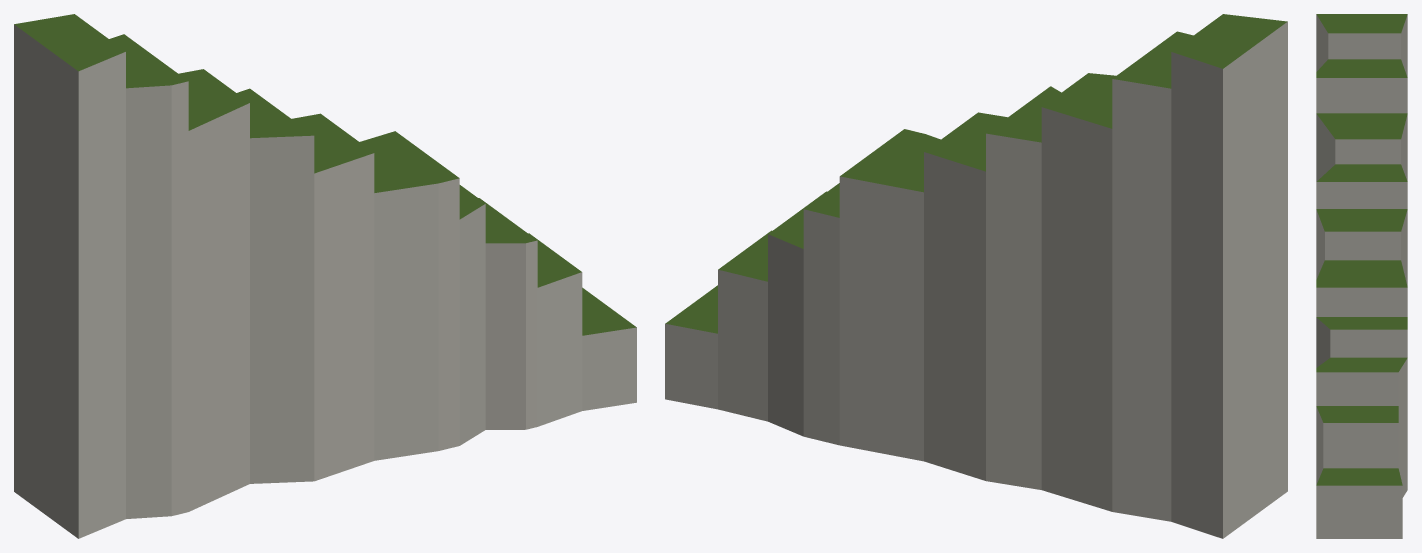
The model's file is Terrain_Tile_Grass_Rock_Stairs_01.fbx.
3 views of the same model, side by side, from view 1: azimuth 30°, elevation 25°; view 2: azimuth 150°, elevation 25°; view 3: azimuth 270°, elevation 25° (orthographic). The views are drawn at different scales.
Parts seen in each view (by area): view 1: Terrain_Tile_Grass_Rock_Stairs_01; view 2: Terrain_Tile_Grass_Rock_Stairs_01; view 3: Terrain_Tile_Grass_Rock_Stairs_01.
Boxes of the visible parts, x1,y1,x2,y2 form: Terrain_Tile_Grass_Rock_Stairs_01: (14,14,636,538); Terrain_Tile_Grass_Rock_Stairs_01: (665,14,1287,538); Terrain_Tile_Grass_Rock_Stairs_01: (1316,14,1407,538).
Bounding box in the file's own units: 157 × 126 × 31.5.
